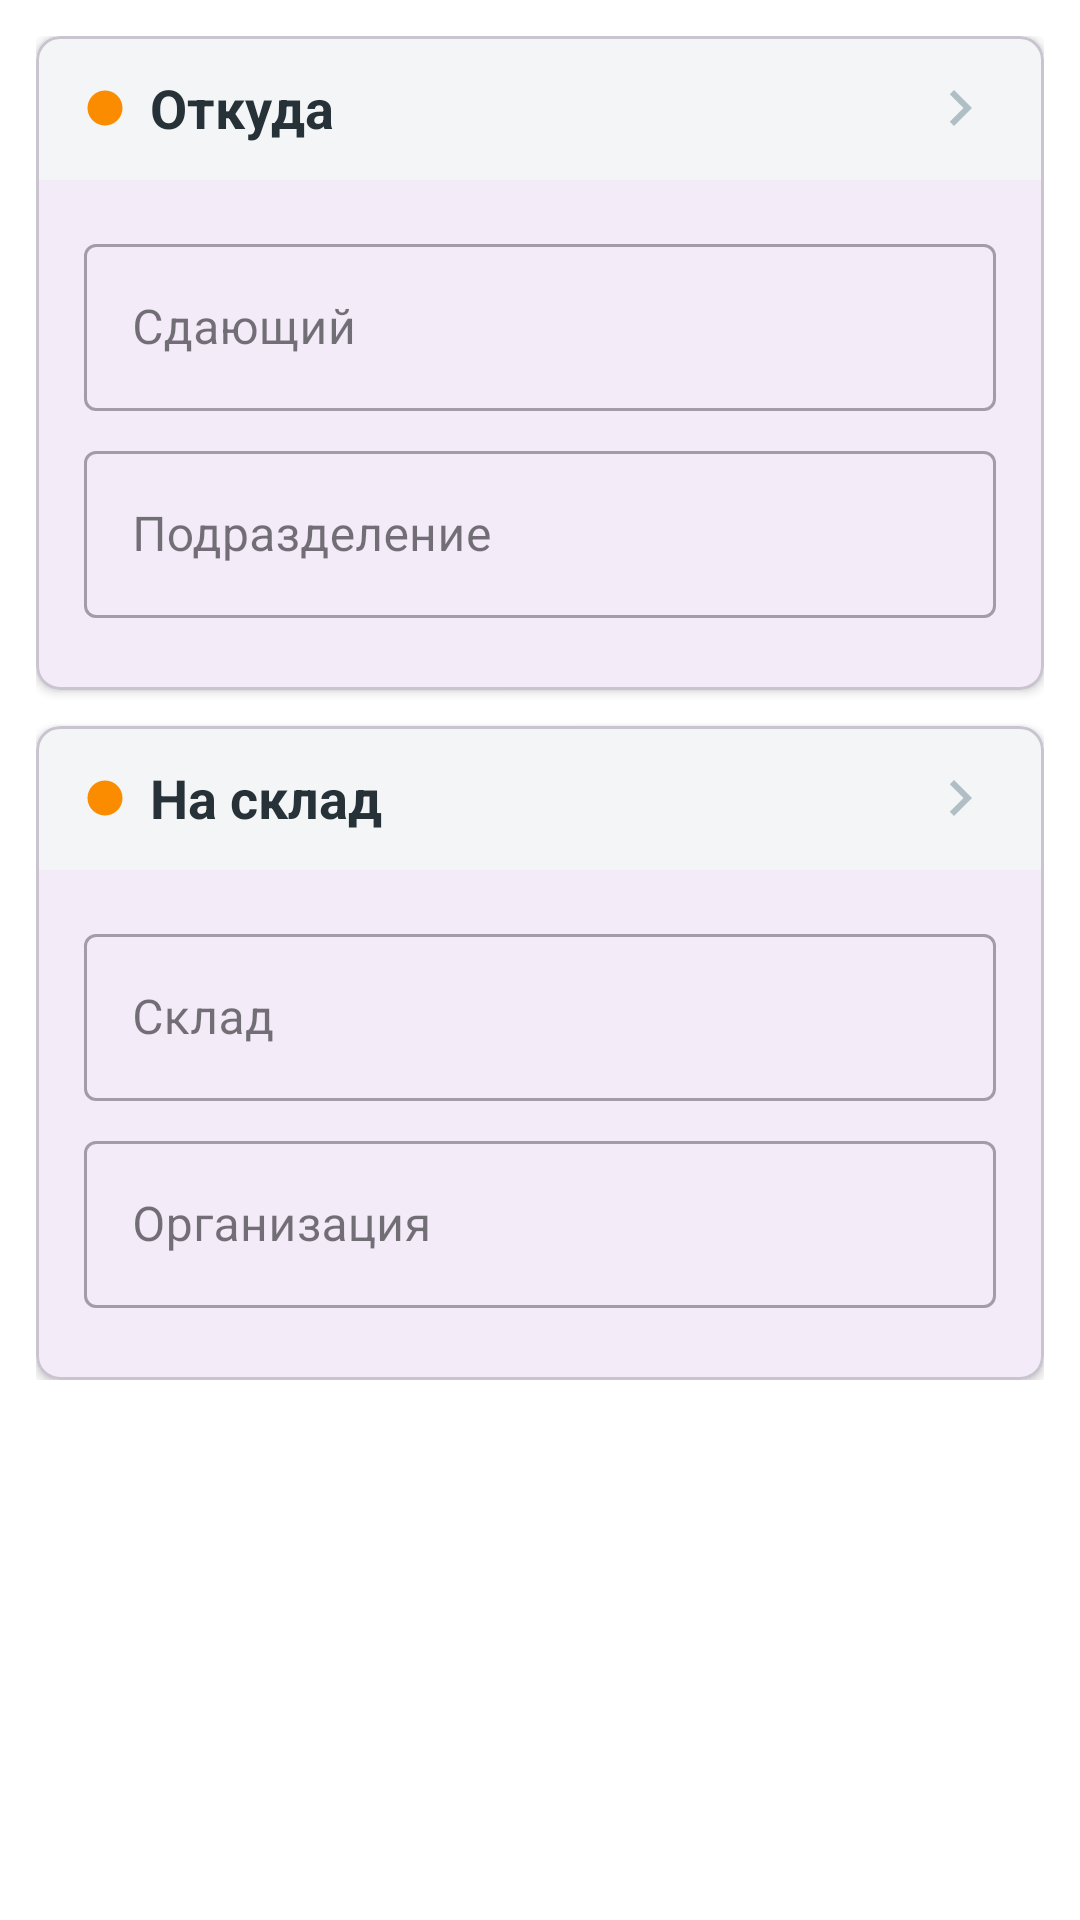

Screen size 1080px×1920px. Icon name, then its center in pixels as (x=x, y=y):
chevron right: (x=961, y=108), (x=961, y=798)
